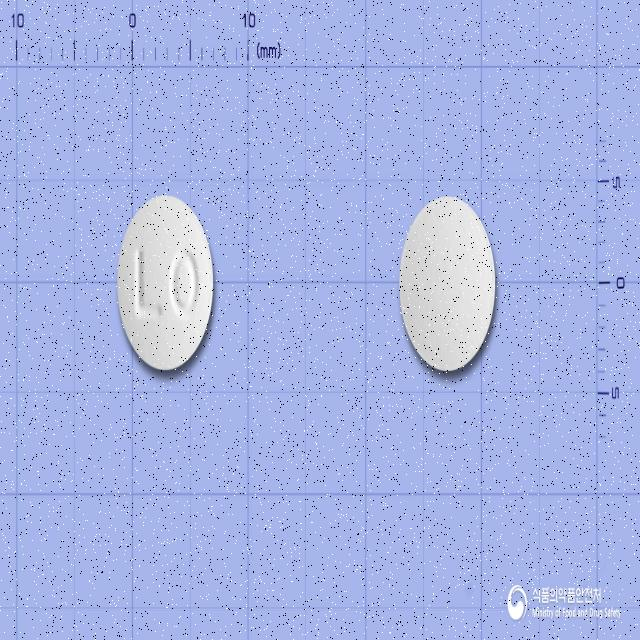Lebofacin: (117, 194, 214, 372)
